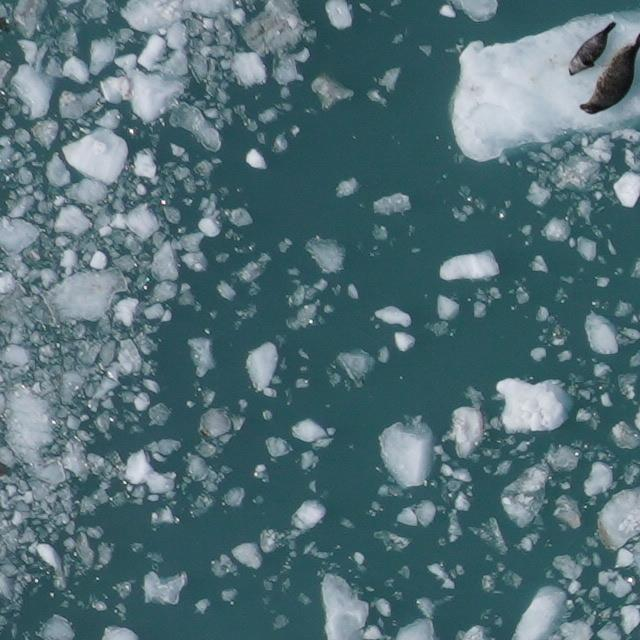seal: (563, 15, 620, 82)
